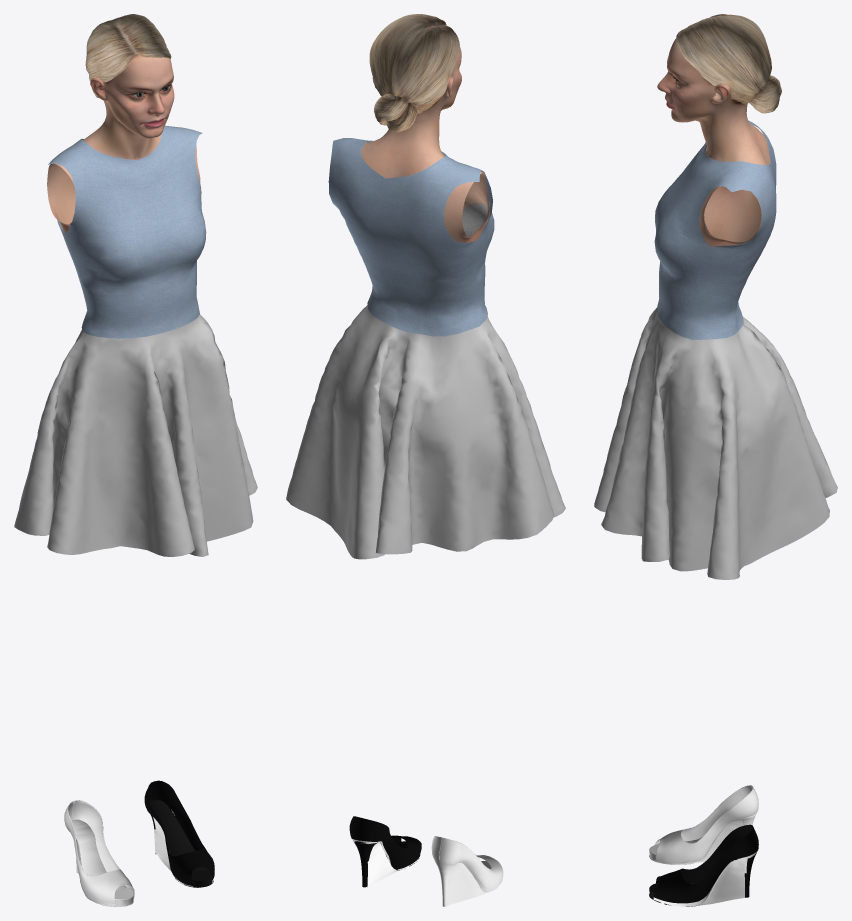
Rendered from Torzo.fbx.
3 views of the same model, side by side, from view 1: azimuth 30°, elevation 25°; view 2: azimuth 150°, elevation 25°; view 3: azimuth 270°, elevation 25° (orthographic). The views are drawn at different scales.
Visible parts, largest first — view 1: dress2, body, shoes_l_Shape, shoes_r_Shape, hair_Shape; view 2: dress2, hair_Shape, body, shoes_r_Shape, shoes_l_Shape; view 3: dress2, body, hair_Shape, shoes_l_Shape, shoes_r_Shape.
Boxes of the visible parts, x1,y1,x2,y2 form: dress2: [14, 125, 257, 556]; body: [47, 54, 201, 232]; shoes_l_Shape: [144, 780, 214, 887]; shoes_r_Shape: [64, 800, 134, 906]; hair_Shape: [85, 14, 171, 98]; dress2: [286, 138, 565, 559]; hair_Shape: [369, 14, 459, 132]; body: [360, 47, 489, 242]; shoes_r_Shape: [431, 836, 503, 906]; shoes_l_Shape: [349, 816, 421, 887]; dress2: [594, 120, 837, 579]; body: [657, 38, 770, 246]; hair_Shape: [676, 14, 781, 113]; shoes_l_Shape: [649, 824, 758, 906]; shoes_r_Shape: [649, 785, 758, 864].
Size of the model in its own units: 56.19 by 188 by 48.18.
